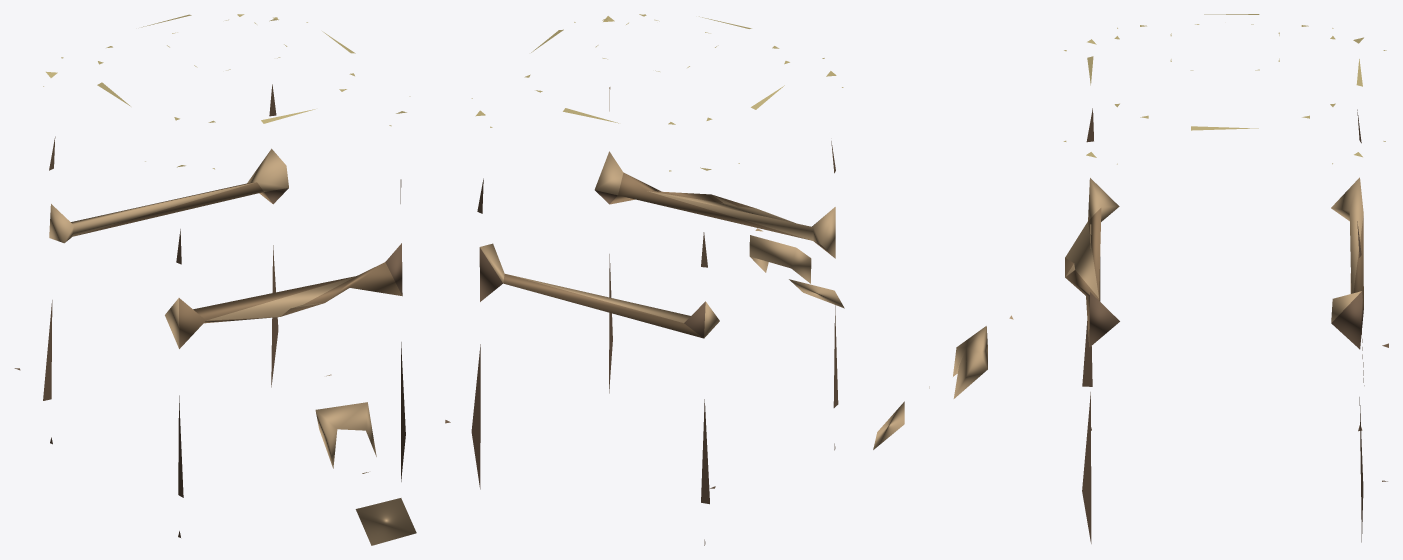
File: poi_overlook_platform_far.glb
3 renders of one model, left to right at view 1: azimuth 30°, elevation 25°; view 2: azimuth 150°, elevation 25°; view 3: azimuth 270°, elevation 25°, orthographic. The views are drawn at different scales.
Parts seen in each view (by area): view 1: poi_overlook_platform_far; view 2: poi_overlook_platform_far; view 3: poi_overlook_platform_far.
Part boxes in pixels (<box>): poi_overlook_platform_far: <box>14,14,416,545</box>; poi_overlook_platform_far: <box>445,14,844,545</box>; poi_overlook_platform_far: <box>873,14,1388,543</box>.
Size of the model in its own units: 3.76 by 5.91 by 5.93.
